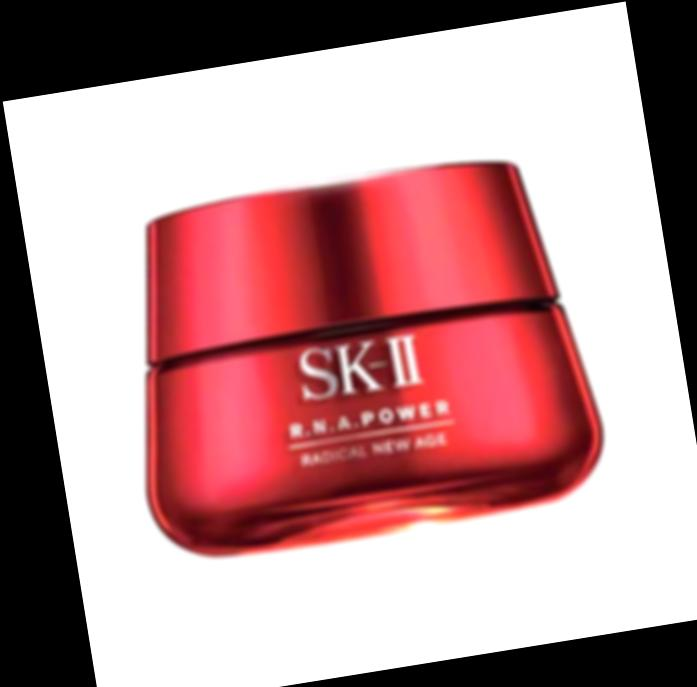cosmetic: (115, 148, 599, 556)
